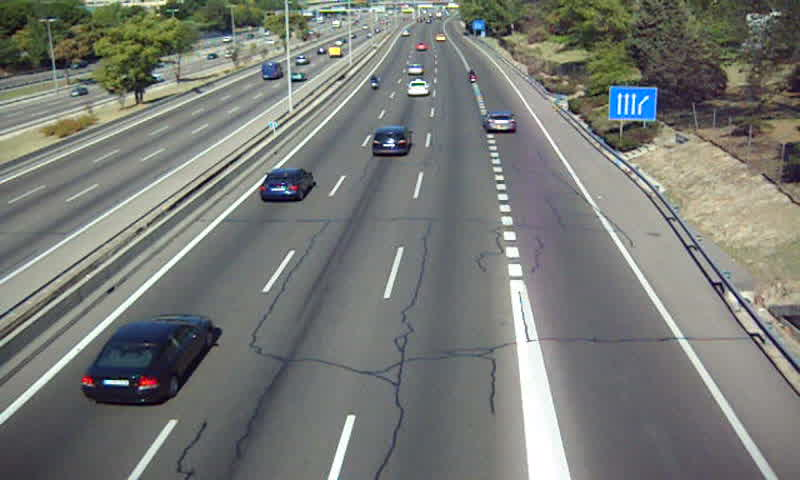car: (81, 316, 214, 403), (260, 168, 316, 201), (371, 126, 413, 156), (482, 110, 517, 134), (407, 79, 430, 97), (407, 62, 422, 75)
motorcycle: (370, 71, 379, 93), (467, 69, 479, 85)
